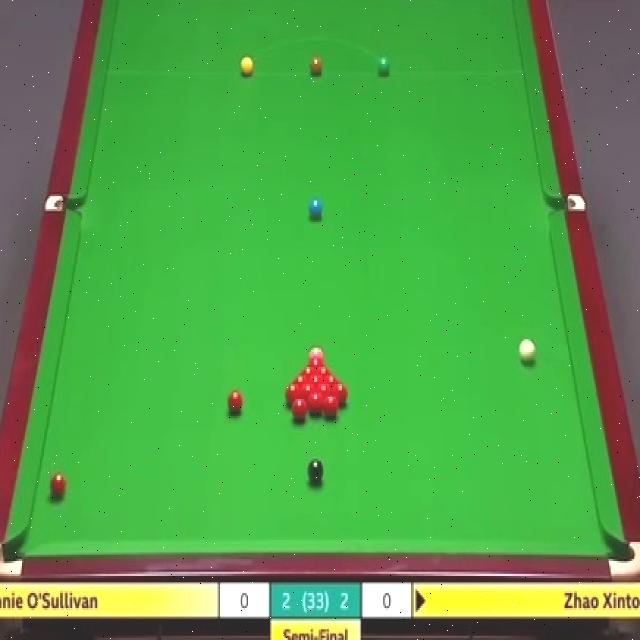black-ball: (306, 457, 322, 484)
blue-ball: (308, 200, 323, 218)
brown-ball: (309, 56, 323, 78)
green-ball: (376, 54, 391, 77)
pink-ball: (309, 347, 324, 363)
red-ball: (48, 471, 68, 497), (289, 397, 308, 421), (227, 390, 243, 414), (330, 382, 346, 405), (308, 391, 323, 415), (285, 383, 299, 406), (324, 396, 338, 419), (318, 384, 332, 406), (294, 374, 307, 388), (310, 375, 321, 389), (309, 360, 321, 372)
white-ball: (518, 337, 537, 362)
yellow-ball: (240, 56, 253, 77)
